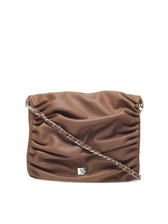bag: (19, 84, 150, 184)
